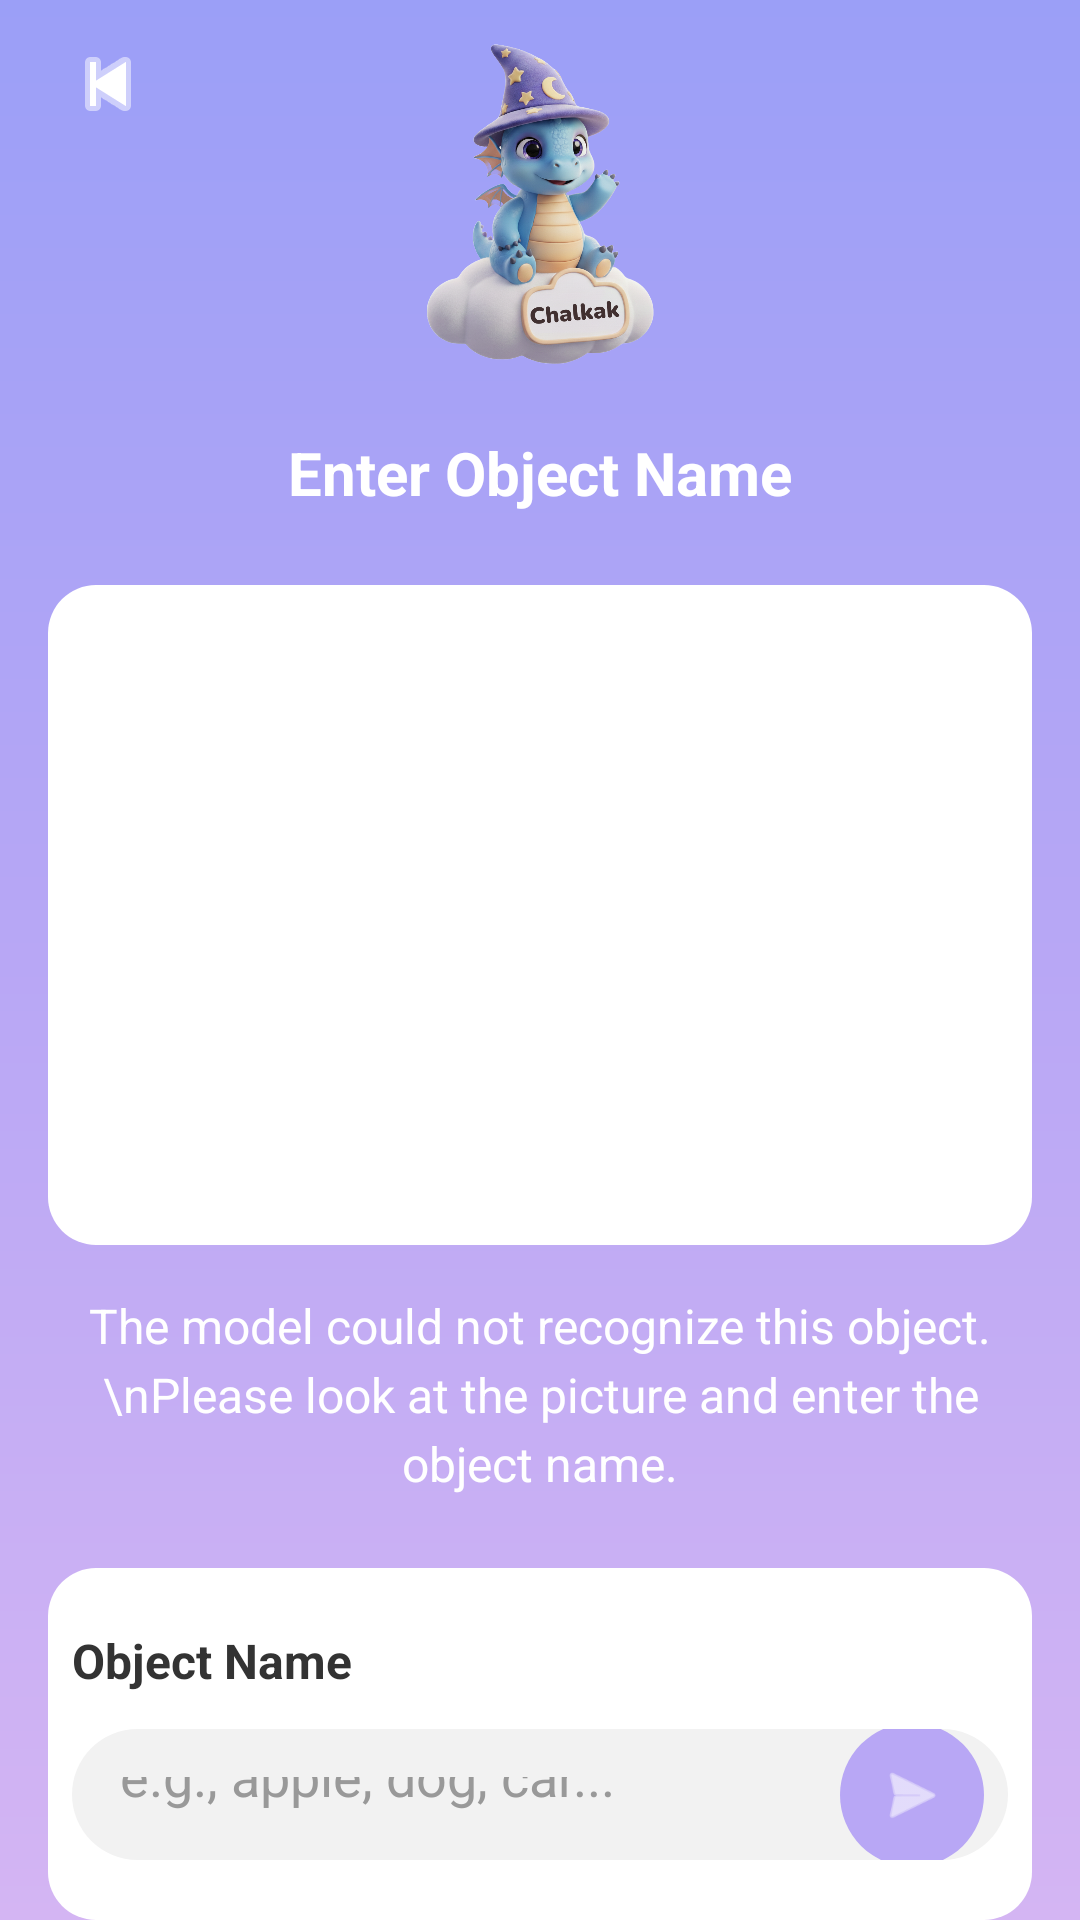

Where to tap for icons on this 1080×1920 app screen, as (x,y):
Back: (108,84)
Confirm: (912,1794)
Mascot: (540,204)
